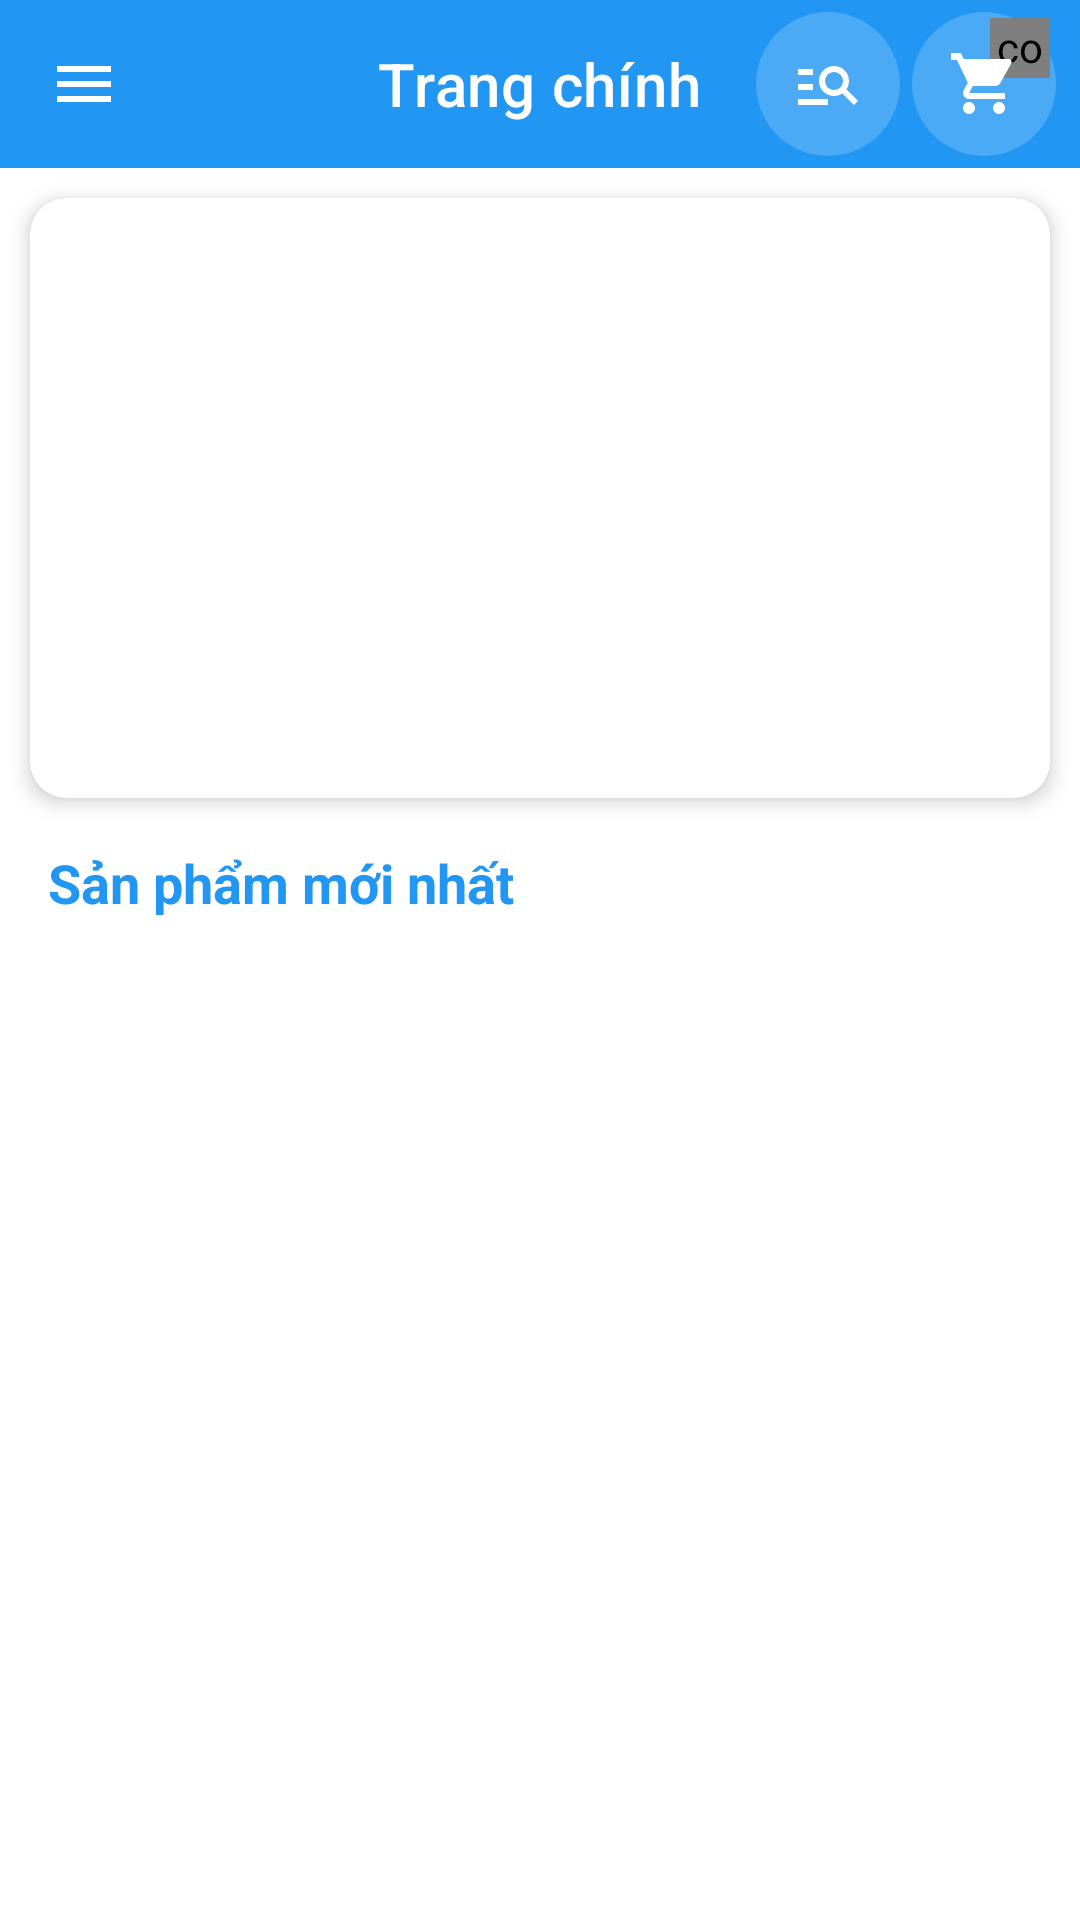

Screen size 1080*1920. Icon name, then its box in pixels as bbox(x1, y1, x2, y2):
Mô tả giỏ hàng: bbox(951, 48, 1020, 114)
Tìm kiếm: bbox(798, 66, 858, 105)
